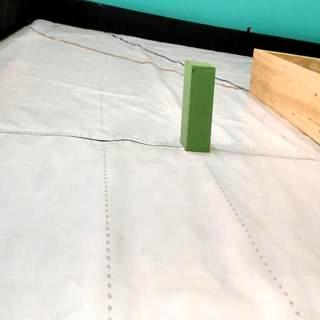greenbox: (180, 58, 216, 152)
